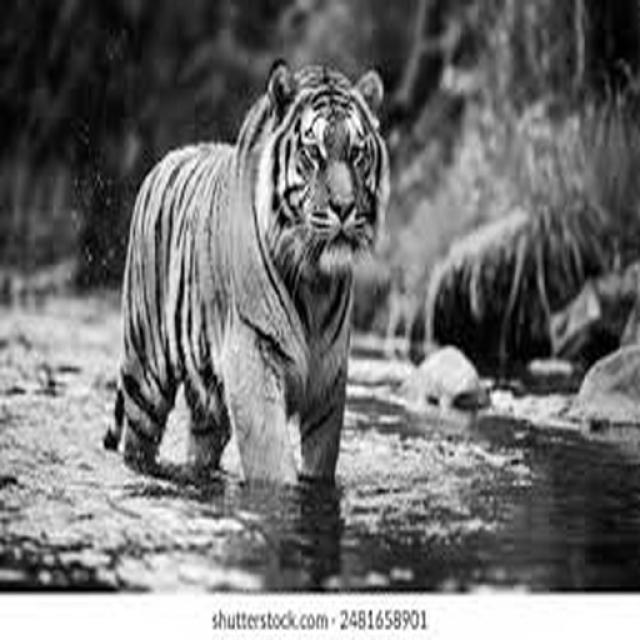Tiger: (101, 56, 391, 492)
